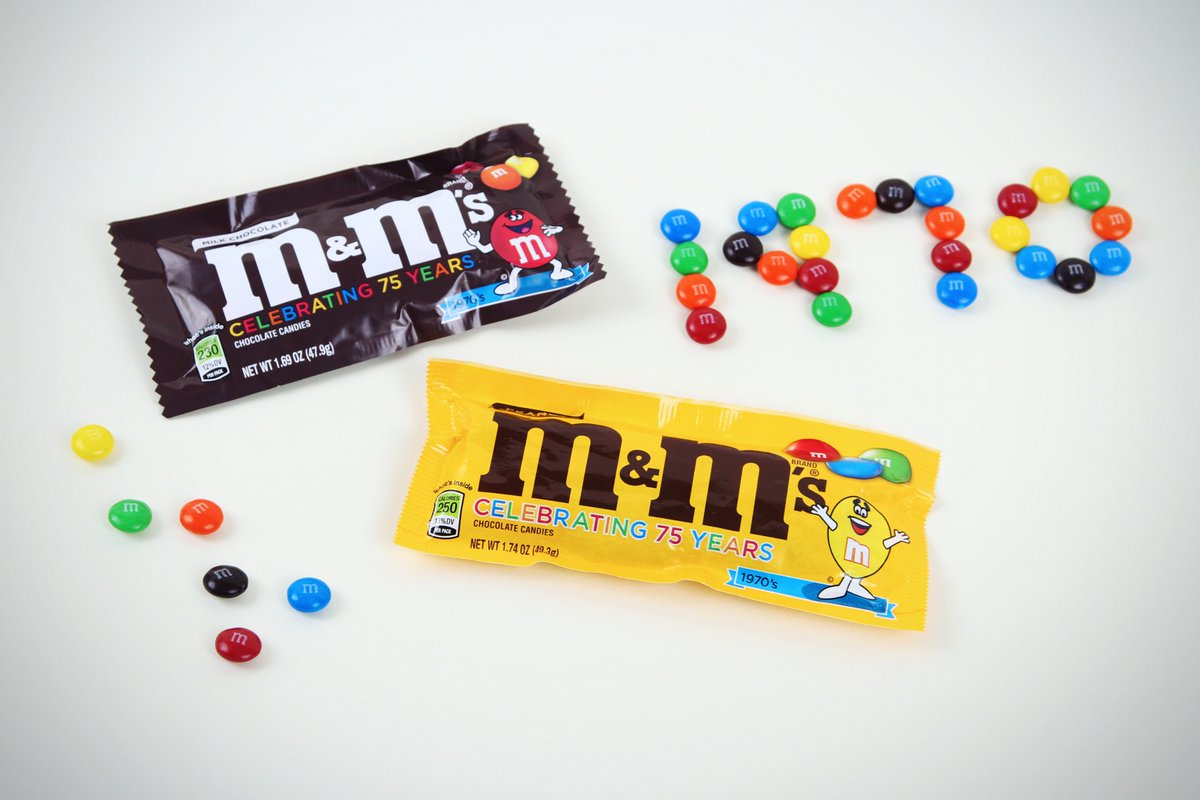mm: (106, 497, 153, 534), (70, 423, 114, 462), (178, 497, 223, 534), (202, 564, 249, 599), (214, 626, 261, 661), (996, 182, 1039, 220), (834, 182, 878, 219), (286, 576, 332, 611), (734, 199, 778, 235), (935, 273, 978, 309), (1053, 257, 1096, 293), (684, 307, 728, 342), (674, 274, 717, 309), (1031, 166, 1069, 205), (798, 258, 839, 294), (1070, 174, 1111, 210), (1017, 244, 1059, 279), (787, 225, 831, 258), (925, 204, 965, 240), (1090, 239, 1130, 275), (813, 291, 852, 327), (931, 239, 972, 273), (758, 250, 800, 283), (776, 194, 815, 229), (723, 232, 764, 265), (990, 217, 1031, 250), (661, 208, 700, 242), (1092, 206, 1131, 239), (876, 178, 913, 212), (914, 175, 953, 207), (672, 240, 708, 274)
